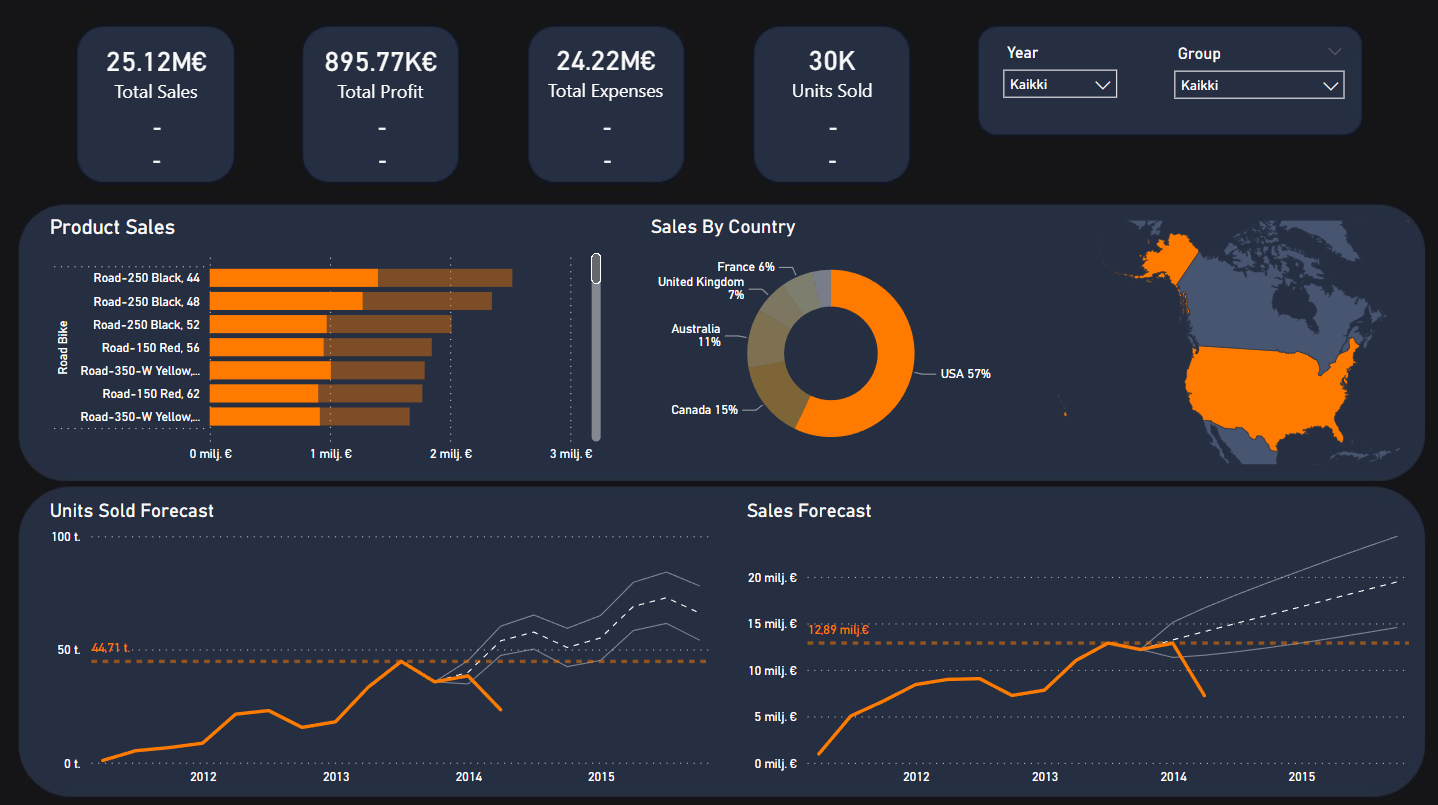

The page's visual inventory and layout, read from the dashboard file:
{"tool":"powerbi","page":{"name":"Sivu 1","canvas":[1280,720],"ordinal":0},"visuals":[{"type":"clusteredBarChart","title":"Product Sales","fields":{"Category":["Production Product.ProductCategory","Production Product.Name"],"Y":["Sales SalesOrderDetail.Total Sales"]},"box":[41,192.8,498.6,225.8],"z":0},{"type":"slicer","fields":{"Values":["Sales SalesTerritory.Group"]},"box":[1033,36.1,171.4,58.6],"z":1000},{"type":"shapeMap","fields":{"Category":["Sales SalesTerritory.CountryNames"],"Value":["Sales SalesOrderDetail.Total Sales"]},"box":[889.3,192.8,368.7,225.8],"z":2000},{"type":"slicer","fields":{"Values":["Sales SalesOrderDetail.ModifiedDate.Vaihtelu.Päivämäärähierarkia.Vuosi"]},"box":[881.2,35.6,120.9,70.9],"z":3000},{"type":"advanceCardE03760C5AB684758B56AA29F9E6C257B","fields":{"mainMeasure":["Production ProductCostHistory.Total Expenses"]},"box":[469.3,28.6,139.7,70.3],"z":5000},{"type":"donutChart","title":"Sales By Country","fields":{"Category":["Sales SalesTerritory.CountryNames"],"Y":["Sales SalesOrderDetail.Total Sales"]},"box":[573.4,192.6,329.6,226.4],"z":6000},{"type":"advanceCardE03760C5AB684758B56AA29F9E6C257B","fields":{"mainMeasure":["Sales SalesOrderDetail.Total Profit"]},"box":[269.8,29.5,139.7,70.3],"z":7000},{"type":"advanceCardE03760C5AB684758B56AA29F9E6C257B","fields":{"mainMeasure":["Sales SalesOrderDetail.Units Sold"]},"box":[669.7,28.6,140.5,70.3],"z":8000},{"type":"advanceCardE03760C5AB684758B56AA29F9E6C257B","fields":{"mainMeasure":["Sales SalesOrderDetail.Percentage Difference"]},"box":[70.6,99.4,140,30.7],"z":9000},{"type":"advanceCardE03760C5AB684758B56AA29F9E6C257B","fields":{"mainMeasure":["Sales SalesOrderDetail.Total Profit Percentage Difference"]},"box":[270.3,99.4,140,30],"z":10000},{"type":"advanceCardE03760C5AB684758B56AA29F9E6C257B","fields":{"mainMeasure":["Production ProductCostHistory.Total Expenses Percentage Difference"]},"box":[470.1,99.4,140.1,30.7],"z":11000},{"type":"advanceCardE03760C5AB684758B56AA29F9E6C257B","fields":{"mainMeasure":["Sales SalesOrderDetail.Units Sold Percentage Difference"]},"box":[670,99.4,140.1,29.8],"z":12000},{"type":"advanceCardE03760C5AB684758B56AA29F9E6C257B","fields":{"mainMeasure":["Sales SalesOrderDetail.Total Sales"]},"box":[70.3,29.5,140.5,70.3],"z":13000},{"type":"advanceCardE03760C5AB684758B56AA29F9E6C257B","fields":{"mainMeasure":["Sales SalesOrderDetail.Sales Difference"]},"box":[90.6,128.6,100,30],"z":14000},{"type":"advanceCardE03760C5AB684758B56AA29F9E6C257B","fields":{"mainMeasure":["Sales SalesOrderDetail.Units Sold Difference"]},"box":[690.2,128.6,99.9,29.8],"z":15000},{"type":"advanceCardE03760C5AB684758B56AA29F9E6C257B","fields":{"mainMeasure":["Sales SalesOrderDetail.Expense Difference"]},"box":[490.3,128.6,99.9,30],"z":16000},{"type":"advanceCardE03760C5AB684758B56AA29F9E6C257B","fields":{"mainMeasure":["Sales SalesOrderDetail.Profit Difference"]},"box":[290.5,128.6,99.9,30.7],"z":17000},{"type":"lineChart","title":"Units Sold Forecast","fields":{"Category":["Sales SalesOrderDetail.ModifiedDate.Vaihtelu.Päivämäärähierarkia.Vuosi","Sales SalesOrderDetail.ModifiedDate.Vaihtelu.Päivämäärähierarkia.Vuosineljännes"],"Y":["Sales SalesOrderDetail.Units Sold"]},"box":[41,444.7,599.5,259.8],"z":18000},{"type":"lineChart","title":"Sales Forecast","fields":{"Category":["Sales SalesOrderDetail.ModifiedDate.Vaihtelu.Päivämäärähierarkia.Vuosi","Sales SalesOrderDetail.ModifiedDate.Vaihtelu.Päivämäärähierarkia.Vuosineljännes"],"Y":["Sales SalesOrderDetail.Total Sales"]},"box":[658.5,444.7,600,260],"z":19000}]}

Visuals, with their boxes in screenshot pixels (x1, y1, x2, y2), scaled from the page's 1280x720 canvas onto the 1438x805 screenshot:
"Product Sales" clusteredBarChart: [46, 216, 606, 468]
slicer - Sales SalesTerritory.Group: [1161, 40, 1353, 106]
shapeMap - Sales SalesTerritory.CountryNames x Sales SalesOrderDetail.Total Sales: [999, 216, 1413, 468]
slicer - Sales SalesOrderDetail.ModifiedDate.Vaihtelu.Päivämäärähierarkia.Vuosi: [990, 40, 1126, 119]
advanceCardE03760C5AB684758B56AA29F9E6C257B - Production ProductCostHistory.Total Expenses: [527, 32, 684, 111]
"Sales By Country" donutChart: [644, 215, 1014, 468]
advanceCardE03760C5AB684758B56AA29F9E6C257B - Sales SalesOrderDetail.Total Profit: [303, 33, 460, 112]
advanceCardE03760C5AB684758B56AA29F9E6C257B - Sales SalesOrderDetail.Units Sold: [752, 32, 910, 111]
advanceCardE03760C5AB684758B56AA29F9E6C257B - Sales SalesOrderDetail.Percentage Difference: [79, 111, 237, 145]
advanceCardE03760C5AB684758B56AA29F9E6C257B - Sales SalesOrderDetail.Total Profit Percentage Difference: [304, 111, 461, 145]
advanceCardE03760C5AB684758B56AA29F9E6C257B - Production ProductCostHistory.Total Expenses Percentage Difference: [528, 111, 686, 145]
advanceCardE03760C5AB684758B56AA29F9E6C257B - Sales SalesOrderDetail.Units Sold Percentage Difference: [753, 111, 910, 144]
advanceCardE03760C5AB684758B56AA29F9E6C257B - Sales SalesOrderDetail.Total Sales: [79, 33, 237, 112]
advanceCardE03760C5AB684758B56AA29F9E6C257B - Sales SalesOrderDetail.Sales Difference: [102, 144, 214, 177]
advanceCardE03760C5AB684758B56AA29F9E6C257B - Sales SalesOrderDetail.Units Sold Difference: [775, 144, 888, 177]
advanceCardE03760C5AB684758B56AA29F9E6C257B - Sales SalesOrderDetail.Expense Difference: [551, 144, 663, 177]
advanceCardE03760C5AB684758B56AA29F9E6C257B - Sales SalesOrderDetail.Profit Difference: [326, 144, 439, 178]
"Units Sold Forecast" lineChart: [46, 497, 720, 788]
"Sales Forecast" lineChart: [740, 497, 1414, 788]
